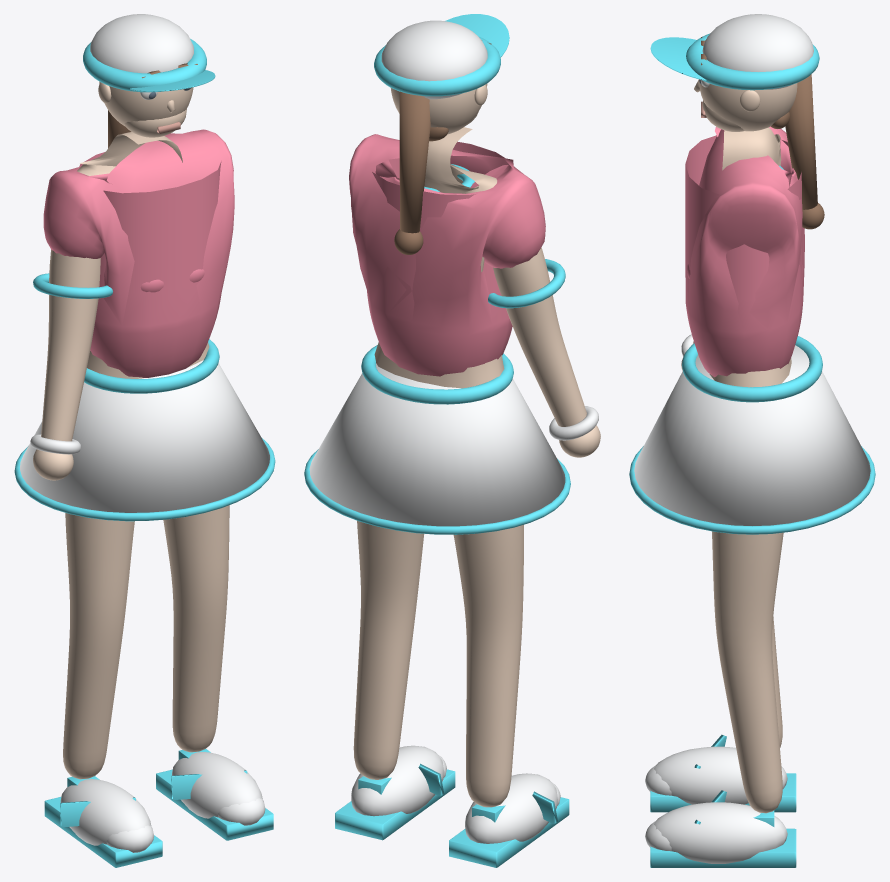
The model's file is aura-tennis-female.glb.
The picture shows the model from 3 angles, left to right: view 1: azimuth 30°, elevation 25°; view 2: azimuth 150°, elevation 25°; view 3: azimuth 270°, elevation 25°; orthographic projection. The views are drawn at different scales.
Parts seen in each view (by area): view 1: Female_body, Female_shirtmesh, Cone, Sphere.012, Sphere.017, Sphere.015, Torus.003, Torus.004, Torus.002, Sphere.002, Cube.006, Cube.003 (+9 smaller); view 2: Female_body, Female_shirtmesh, Cone, Sphere.012, Cone.002, Sphere.017, Sphere.015, Torus.002, Torus.003, Torus.004, Cube.003, Cube.006 (+6 smaller); view 3: Cone, Female_shirtmesh, Female_body, Sphere.015, Sphere.012, Sphere.017, Torus.002, Cone.002, Sphere.002, Torus.004, Torus.003, Cube.003 (+2 smaller).
Boxes of the visible parts, x1,y1,x2,y2 form: Female_body: [41, 132, 229, 779]; Female_shirtmesh: [43, 129, 234, 377]; Cone: [20, 360, 269, 512]; Sphere.012: [90, 14, 193, 73]; Sphere.017: [60, 779, 151, 845]; Sphere.015: [172, 752, 262, 818]; Torus.003: [14, 437, 275, 521]; Torus.004: [83, 38, 206, 92]; Torus.002: [84, 339, 219, 393]; Sphere.002: [99, 81, 193, 125]; Cube.006: [44, 797, 162, 867]; Cube.003: [156, 769, 273, 840]; Female_body: [353, 127, 586, 807]; Female_shirtmesh: [349, 134, 545, 376]; Cone: [309, 363, 565, 526]; Sphere.012: [381, 20, 487, 99]; Cone.002: [399, 91, 430, 233]; Sphere.017: [465, 773, 557, 843]; Sphere.015: [351, 745, 444, 816]; Torus.002: [361, 345, 513, 404]; Torus.003: [304, 449, 570, 534]; Torus.004: [374, 37, 500, 96]; Cube.003: [335, 769, 455, 840]; Cube.006: [449, 797, 569, 867]; Cone: [634, 345, 870, 525]; Female_shirtmesh: [685, 126, 804, 377]; Female_body: [693, 127, 791, 813]; Sphere.015: [654, 802, 787, 863]; Sphere.012: [702, 14, 813, 89]; Sphere.017: [654, 746, 787, 804]; Torus.002: [682, 336, 822, 402]; Cone.002: [785, 74, 817, 209]; Sphere.002: [698, 79, 797, 131]; Torus.004: [686, 33, 819, 90]; Torus.003: [629, 446, 875, 534]; Cube.003: [650, 828, 796, 867].
Bounding box in the file's own units: 0.6032 × 1.84 × 0.5058.
